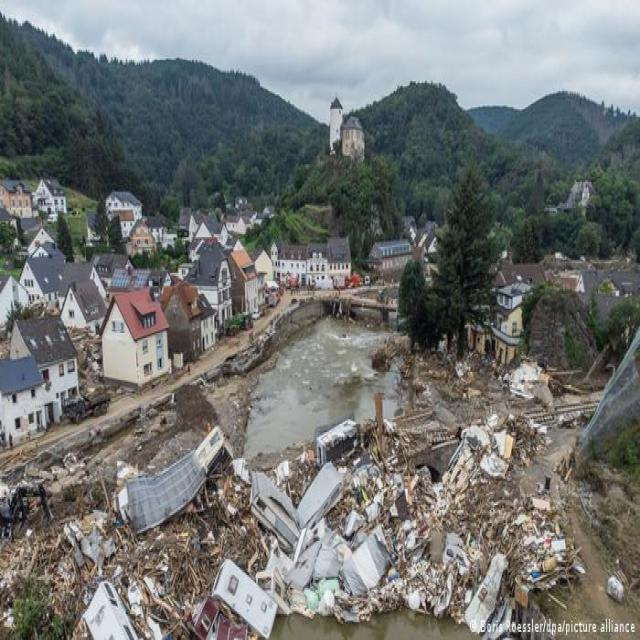flood: (245, 318, 399, 456), (271, 612, 481, 640)
house: (104, 286, 168, 384), (12, 318, 78, 391), (276, 235, 357, 292), (170, 280, 218, 359), (0, 358, 43, 442), (20, 242, 69, 310), (492, 284, 528, 364), (202, 246, 232, 326), (365, 235, 419, 277), (60, 279, 106, 328), (102, 188, 144, 238), (228, 248, 260, 312), (32, 178, 68, 217), (0, 177, 33, 218), (0, 273, 30, 311), (341, 115, 366, 160), (562, 178, 594, 212), (125, 219, 156, 250), (94, 253, 133, 276), (28, 226, 60, 251), (226, 214, 261, 234), (254, 249, 275, 281), (192, 216, 216, 239)
